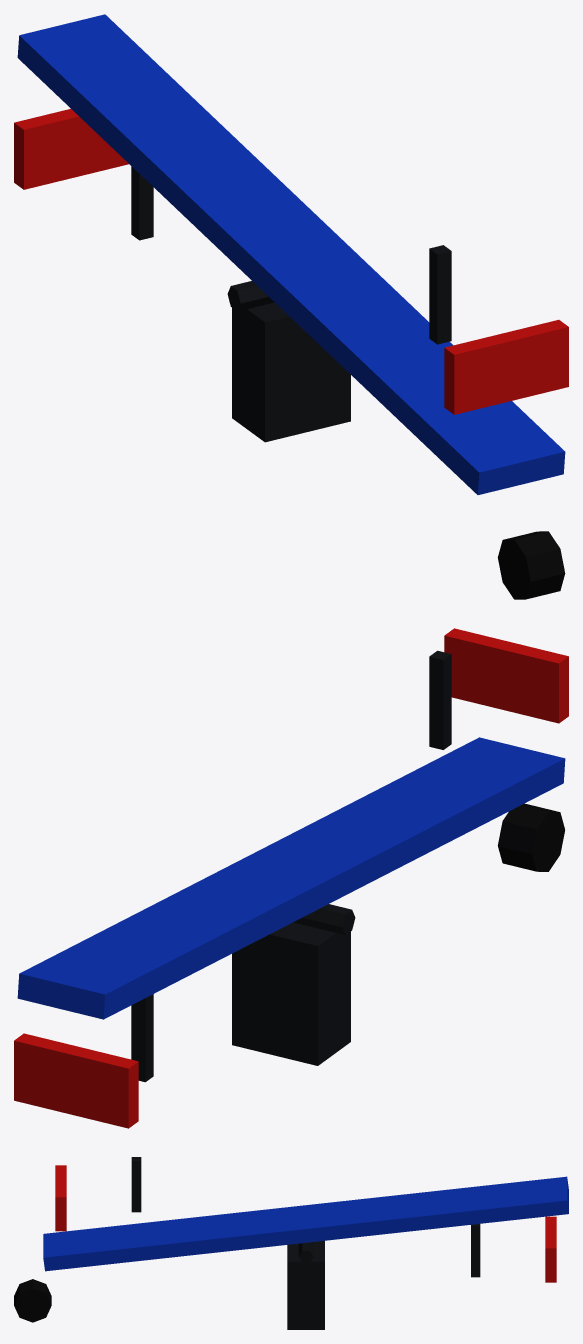
Rendered from seesaw.obj.
The picture shows the model from 3 angles, top to bottom: view 1: azimuth 30°, elevation 25°; view 2: azimuth 150°, elevation 25°; view 3: azimuth 270°, elevation 25°; orthographic projection. The views are drawn at different scales.
Parts seen in each view (by area): view 1: seesaw; view 2: seesaw; view 3: seesaw.
Part boxes in pixels (x1,y1,x2,y2): seesaw: (14,14,568,599); seesaw: (14,628,568,1128); seesaw: (14,1157,568,1329).
Bounding box in the file's own units: 0.4 × 0.93 × 2.94.
